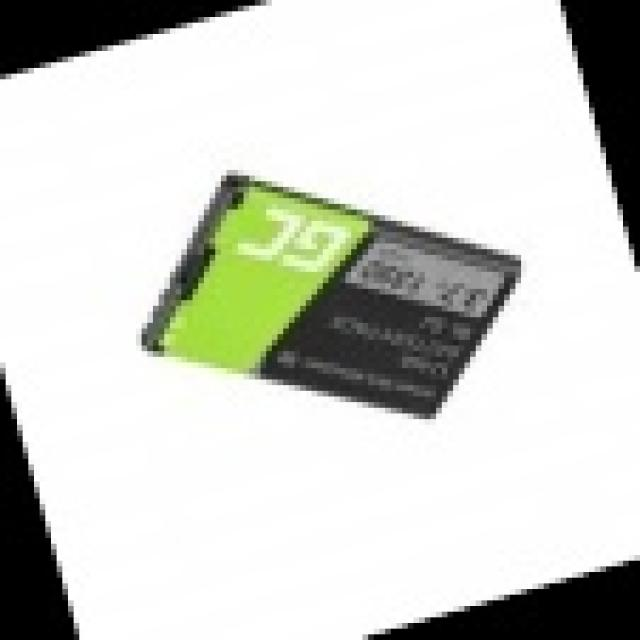B3: (143, 161, 533, 437)
